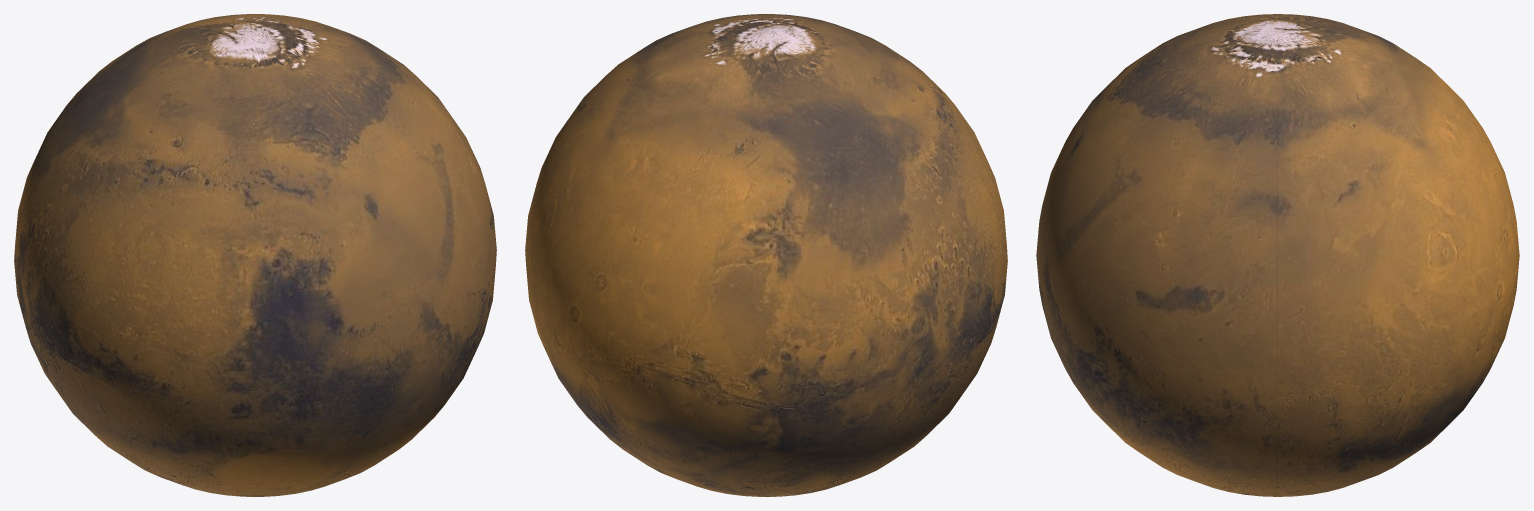
File: mars.glb
3 renders of one model, left to right at view 1: azimuth 30°, elevation 25°; view 2: azimuth 150°, elevation 25°; view 3: azimuth 270°, elevation 25°, orthographic.
Bounding box in the file's own units: 2 × 2 × 2.
1 material, 1 textured.
